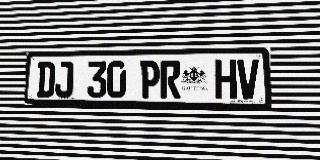0: (106, 61, 126, 98)
3: (87, 61, 106, 98)
D: (36, 62, 55, 97)
H: (215, 59, 237, 99)
J: (55, 61, 73, 97)
P: (140, 60, 160, 98)
R: (160, 60, 180, 98)
V: (237, 59, 259, 99)
